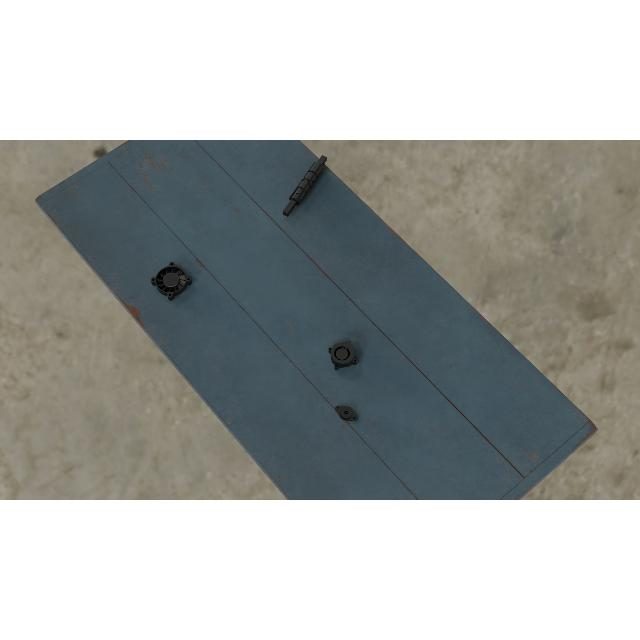Pieza1: (280, 152, 330, 220)
Pieza2: (332, 400, 361, 426)
Pieza3: (328, 340, 358, 372)
Pieza4: (148, 261, 194, 303)
